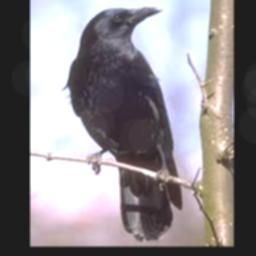Crow: (62, 6, 182, 241)
